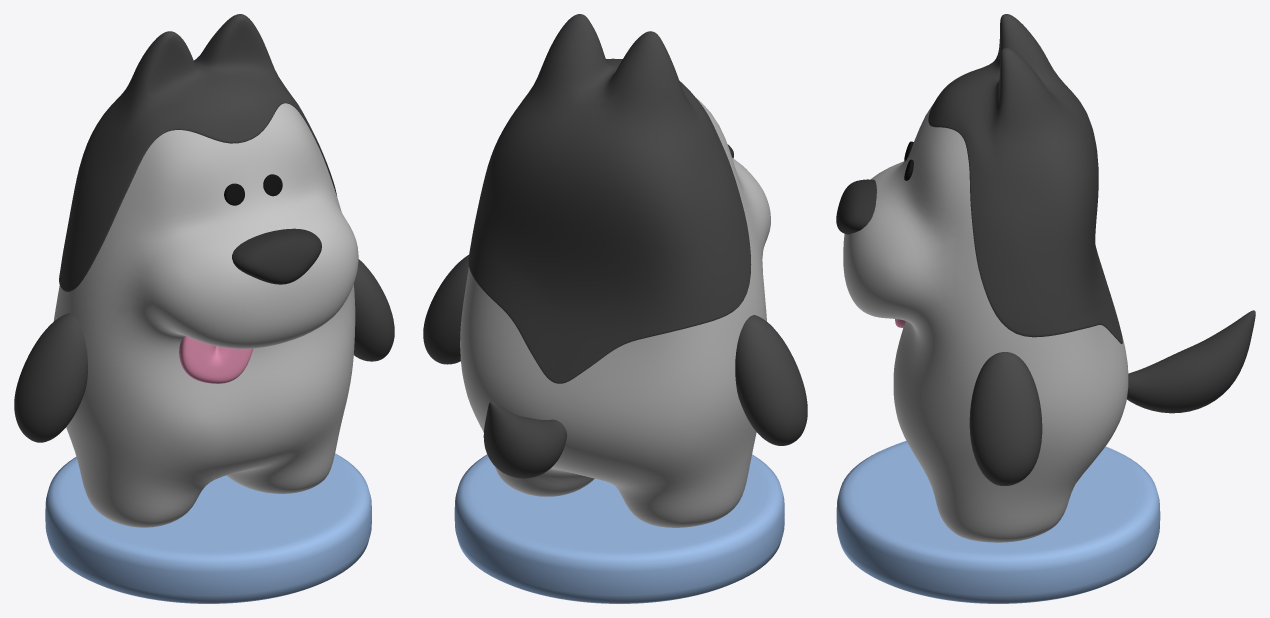
The model's file is dog.glb.
3 views of the same model, side by side, from view 1: azimuth 30°, elevation 25°; view 2: azimuth 150°, elevation 25°; view 3: azimuth 270°, elevation 25° (orthographic). The views are drawn at different scales.
Parts seen in each view (by area): view 1: Body_1, Stand, Body_2, Paws, Nose, Tongue, Eyes; view 2: Body_2, Body_1, Stand, Paws, Tail; view 3: Body_1, Body_2, Stand, Paws, Tail, Nose.
Boxes of the visible parts, <box> form: Body_1: <box>53,103,358,527</box>; Stand: <box>45,453,371,603</box>; Body_2: <box>59,14,337,291</box>; Paws: <box>14,259,394,442</box>; Nose: <box>232,228,321,284</box>; Tongue: <box>179,336,253,383</box>; Eyes: <box>224,174,282,205</box>; Body_2: <box>468,14,751,383</box>; Body_1: <box>460,98,770,527</box>; Stand: <box>454,454,784,603</box>; Paws: <box>423,255,807,445</box>; Tail: <box>483,401,566,478</box>; Body_1: <box>843,104,1128,542</box>; Body_2: <box>928,14,1122,343</box>; Stand: <box>836,441,1160,603</box>; Paws: <box>969,352,1042,485</box>; Tail: <box>1127,310,1255,413</box>; Nose: <box>836,179,876,234</box>.
Bounding box in the file's own units: 0.7838 × 1.04 × 0.7752.
